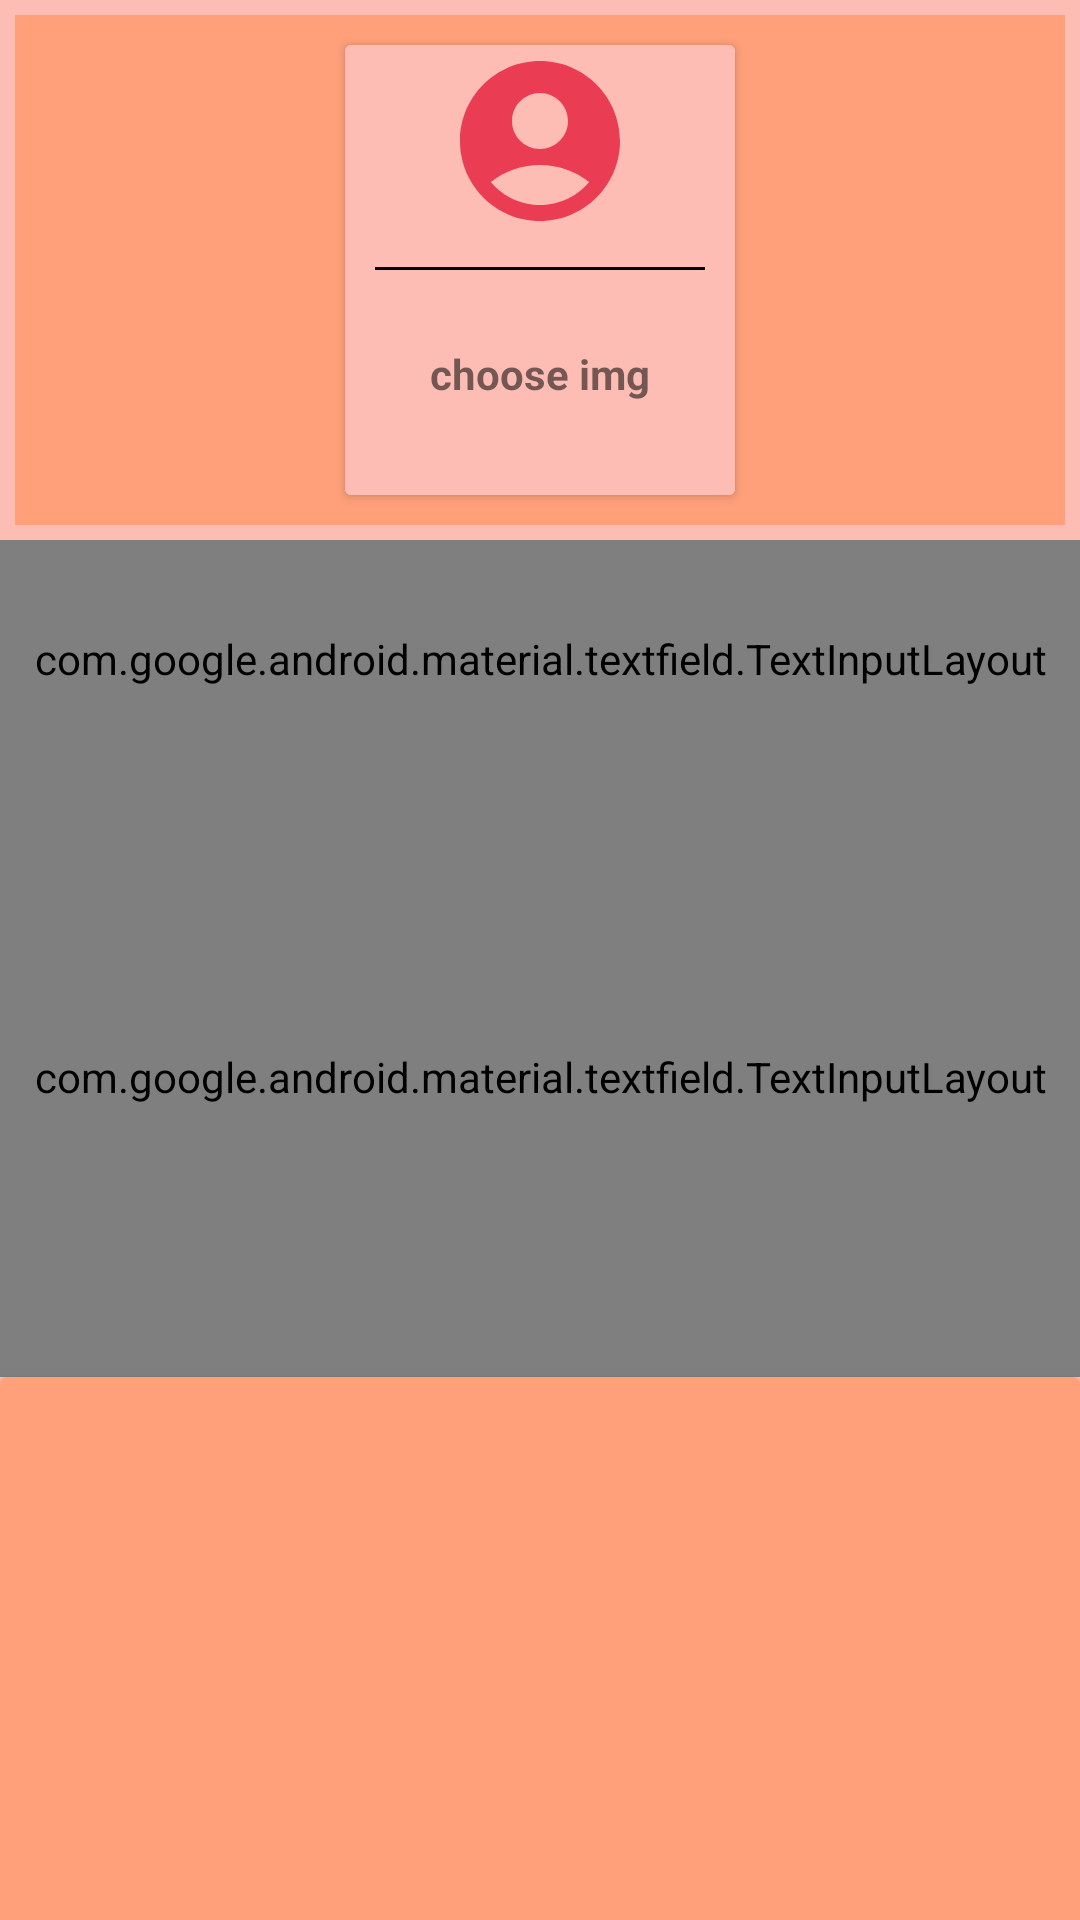

Icon click points for this 1080x1920 phone screenshot, format point (x, y):
account circle: point (540, 141)
